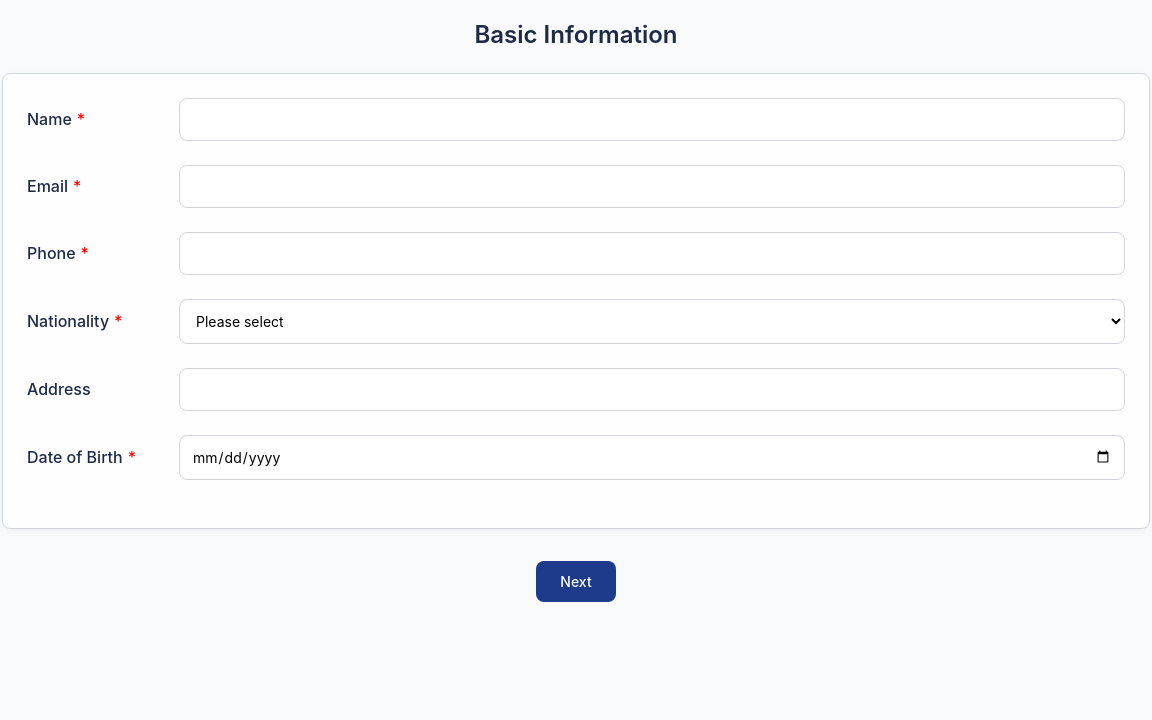
Scenario: Basic Information validation › shows every required-field error and does not navigate
Click the button "Next": point(576, 581) 536,561 -> 616,602
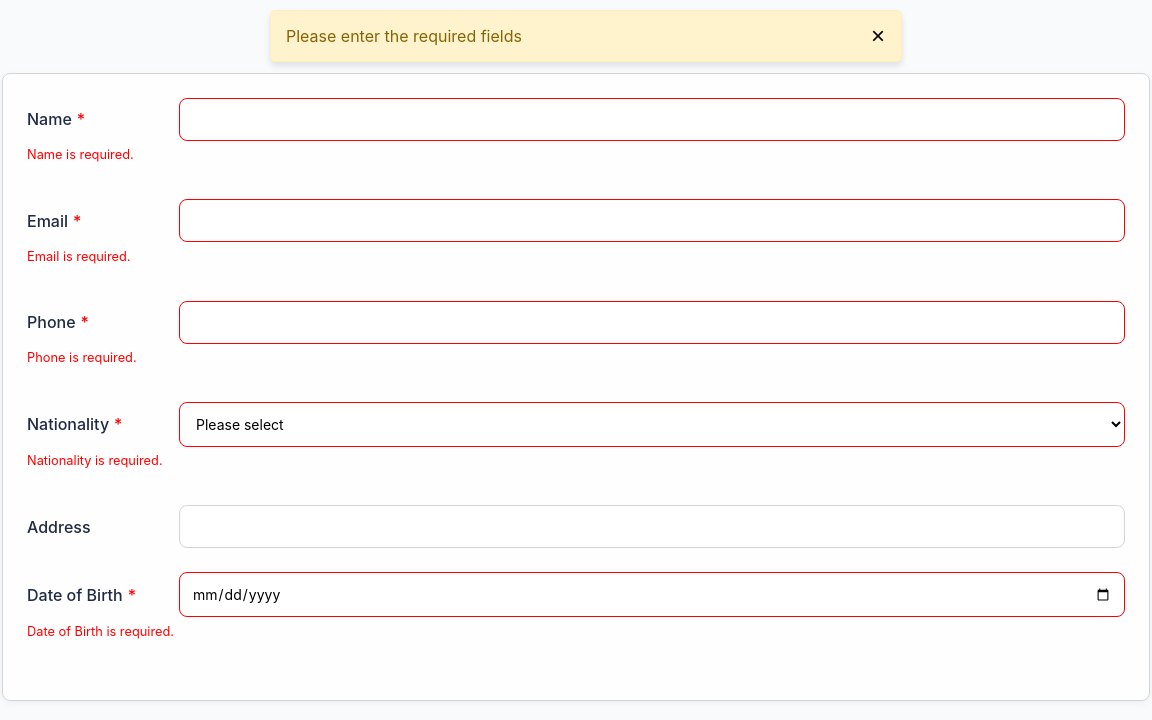
Result: the text "Name is required." is shown at 27,148 -> 134,162
Result: the text "Email is required." is shown at 27,249 -> 130,264
Result: the text "Phone is required." is shown at 27,350 -> 137,365
